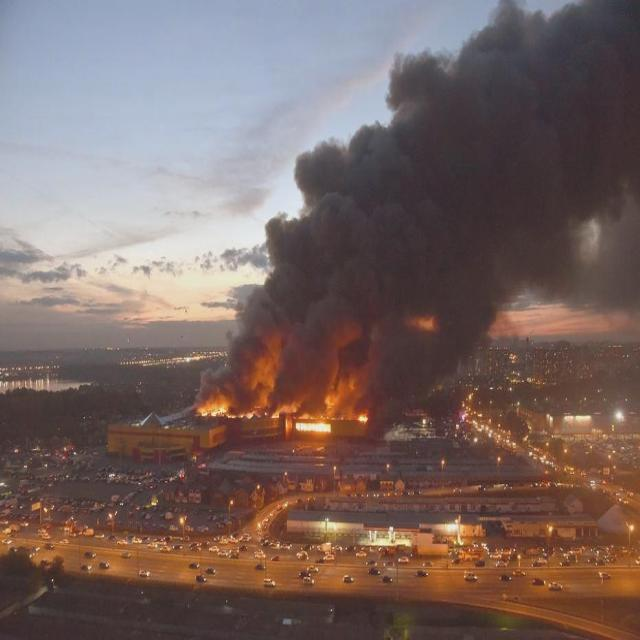Fire: (200, 404, 257, 421), (296, 422, 332, 434), (356, 415, 369, 422)
Smoke: (187, 1, 640, 441)
